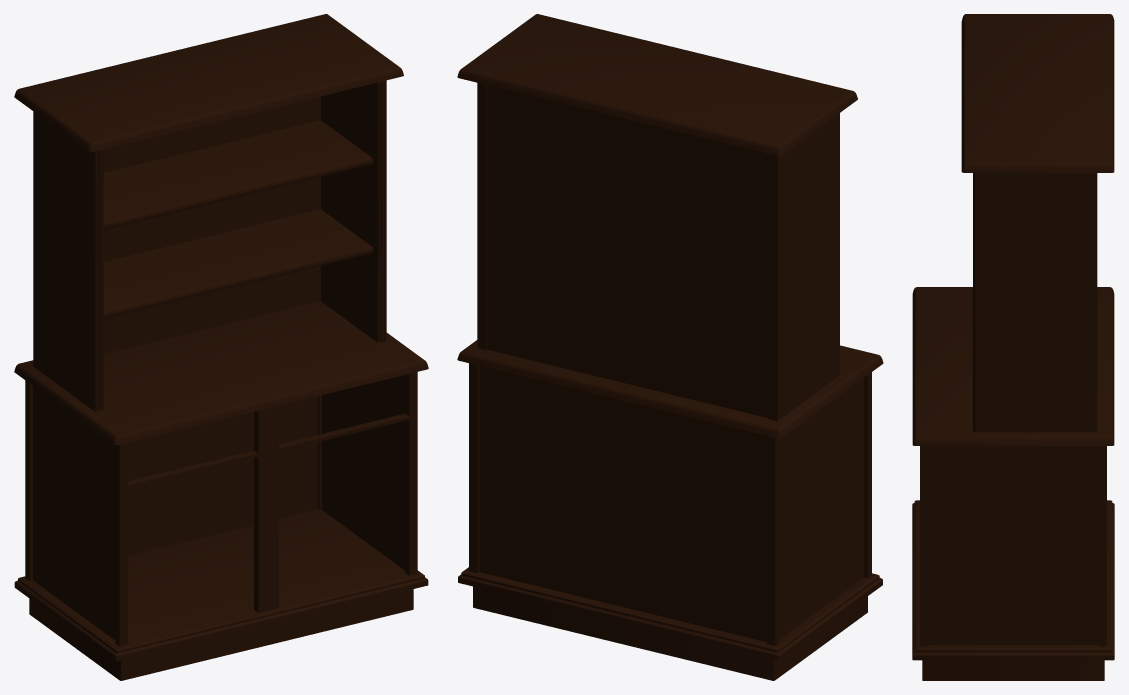
The model's file is cabinet.FBX.
3 views of the same model, side by side, from view 1: azimuth 30°, elevation 25°; view 2: azimuth 150°, elevation 25°; view 3: azimuth 270°, elevation 25° (orthographic). The views are drawn at different scales.
Visible parts, largest first — view 1: cabinet; view 2: cabinet; view 3: cabinet.
Boxes of the visible parts, x1,y1,x2,y2 form: cabinet: (14,14,428,680); cabinet: (457,14,883,680); cabinet: (912,14,1114,680).
Size of the model in its own units: 79.58 by 127 by 44.5.
